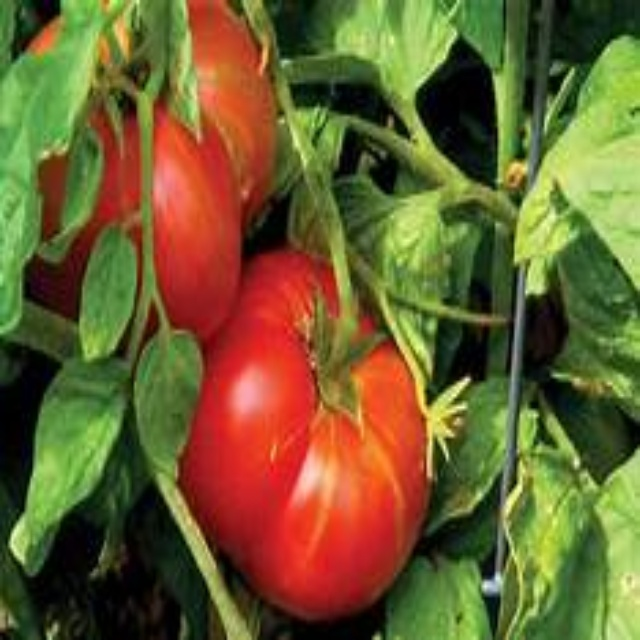tomato: (160, 239, 427, 611), (18, 11, 277, 349)
